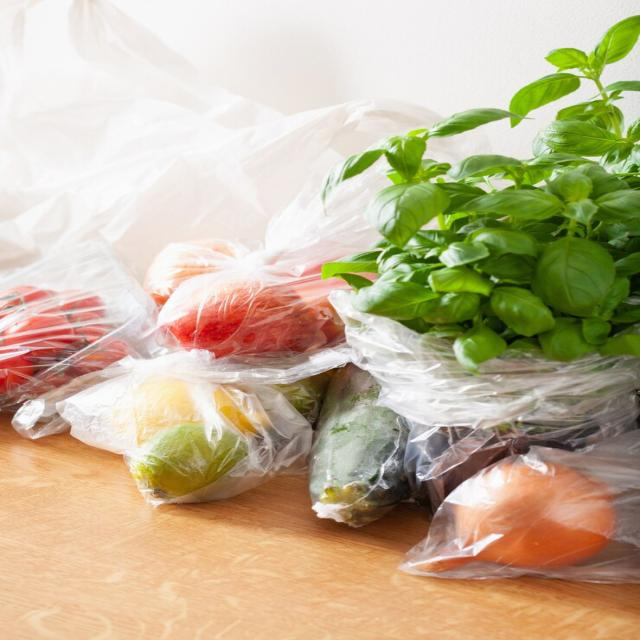plastic_bag: (12, 335, 321, 523), (148, 167, 366, 390)
